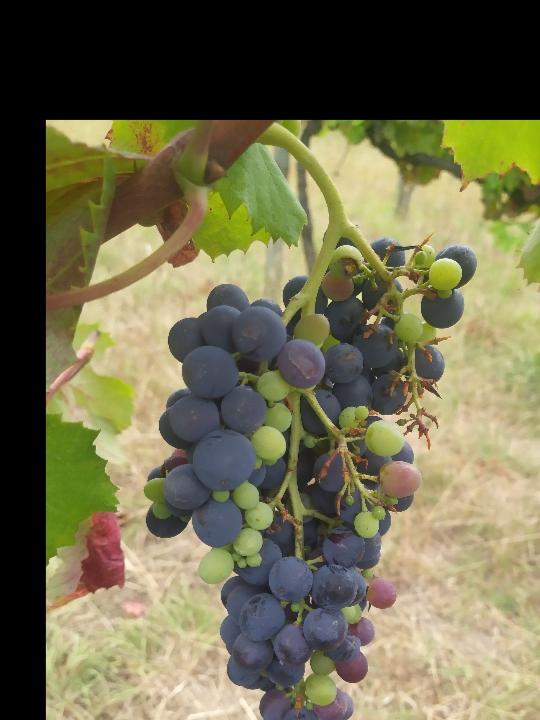grape: (140, 238, 479, 720)
